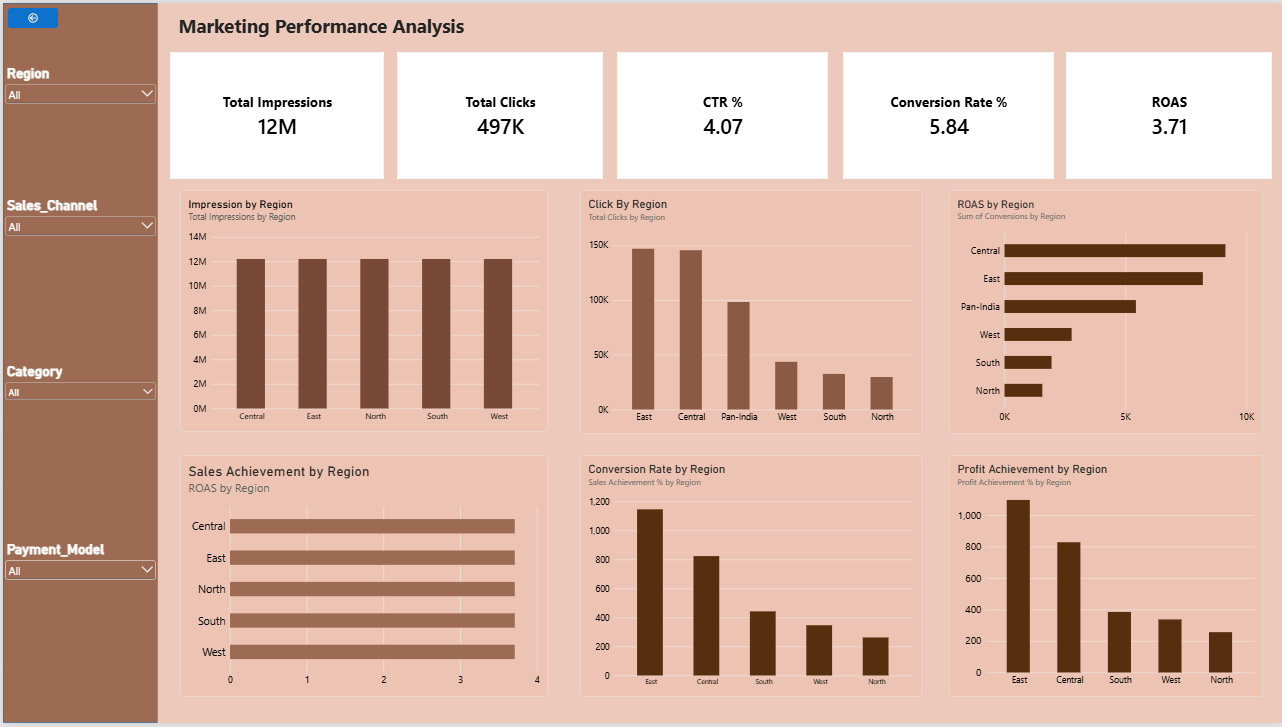

The page's visual inventory and layout, read from the dashboard file:
{"tool":"powerbi","page":{"name":"Page 3","canvas":[2560,1440],"ordinal":2},"visuals":[{"type":"shape","box":[0,0,309.3,1439.5],"z":0},{"type":"actionButton","box":[10,10,100,40],"z":1},{"type":"textbox","box":[310,20,942,66],"z":2},{"type":"cardVisual","fields":{"Data":["Customer Data.Total Impressions"]},"box":[334,98,428,254],"z":3},{"type":"cardVisual","fields":{"Data":["Customer Data.Total Clicks"]},"box":[788,98,412,254],"z":4},{"type":"cardVisual","fields":{"Data":["Customer Data.CTR %"]},"box":[1228,98,422,254],"z":5},{"type":"cardVisual","fields":{"Data":["Customer Data.Conversion Rate %"]},"box":[1680,98,422,254],"z":6},{"type":"cardVisual","fields":{"Data":["Customer Data.ROAS"]},"box":[2126,98,412,254],"z":7},{"type":"clusteredColumnChart","title":"Click By Region ","fields":{"Category":["Marketing Data.Region"],"Y":["Customer Data.Total Clicks"]},"box":[1154,374,684,488],"z":8},{"type":"barChart","title":"Sales Achievement by Region ","fields":{"Category":["Targets Data.Region"],"Y":["Customer Data.ROAS"]},"box":[354,904,736,484],"z":9},{"type":"clusteredColumnChart","title":"Conversion Rate by Region","fields":{"Category":["Targets Data.Region"],"Y":["Customer Data.Sales Achievement %"]},"box":[1154,904,684,484],"z":10},{"type":"barChart","title":"ROAS by Region ","fields":{"Category":["Marketing Data.Region"],"Y":["Sum(Marketing Data.Conversions)"]},"box":[1892,374,628,488],"z":11},{"type":"clusteredColumnChart","title":"Impression by Region ","fields":{"Category":["Orders Data.Region"],"Y":["Customer Data.Total Impressions"]},"box":[354,374,736,484],"z":12},{"type":"slicer","fields":{"Values":["Customer Data.Region"]},"box":[0,124,310,140],"z":13},{"type":"slicer","fields":{"Values":["Orders Data.Sales_Channel"]},"box":[0,388,310,140],"z":14},{"type":"slicer","fields":{"Values":["Product Data.Category"]},"box":[0,720,310,140],"z":15},{"type":"slicer","fields":{"Values":["Orders Data.Payment_Model"]},"box":[0,1076,310,140],"z":16},{"type":"clusteredColumnChart","title":"Profit Achievement by Region ","fields":{"Category":["Targets Data.Region"],"Y":["Customer Data.Profit Achievement %"]},"box":[1892,904,628,484],"z":17}]}

Visuals, with their boxes on the page's 2560x1440 design canvas (x1, y1, x2, y2). These are canvas units, not pixel positions in the 1282x727 screenshot, which may show the page scaled, cropped or inside an application window:
shape: <bbox>0, 0, 309, 1440</bbox>
actionButton: <bbox>10, 10, 110, 50</bbox>
textbox: <bbox>310, 20, 1252, 86</bbox>
cardVisual - Customer Data.Total Impressions: <bbox>334, 98, 762, 352</bbox>
cardVisual - Customer Data.Total Clicks: <bbox>788, 98, 1200, 352</bbox>
cardVisual - Customer Data.CTR %: <bbox>1228, 98, 1650, 352</bbox>
cardVisual - Customer Data.Conversion Rate %: <bbox>1680, 98, 2102, 352</bbox>
cardVisual - Customer Data.ROAS: <bbox>2126, 98, 2538, 352</bbox>
"Click By Region " clusteredColumnChart: <bbox>1154, 374, 1838, 862</bbox>
"Sales Achievement by Region " barChart: <bbox>354, 904, 1090, 1388</bbox>
"Conversion Rate by Region" clusteredColumnChart: <bbox>1154, 904, 1838, 1388</bbox>
"ROAS by Region " barChart: <bbox>1892, 374, 2520, 862</bbox>
"Impression by Region " clusteredColumnChart: <bbox>354, 374, 1090, 858</bbox>
slicer - Customer Data.Region: <bbox>0, 124, 310, 264</bbox>
slicer - Orders Data.Sales_Channel: <bbox>0, 388, 310, 528</bbox>
slicer - Product Data.Category: <bbox>0, 720, 310, 860</bbox>
slicer - Orders Data.Payment_Model: <bbox>0, 1076, 310, 1216</bbox>
"Profit Achievement by Region " clusteredColumnChart: <bbox>1892, 904, 2520, 1388</bbox>
